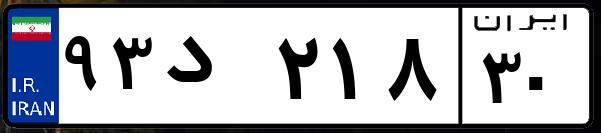0: (525, 38, 570, 115)
1: (330, 28, 385, 110)
2: (270, 28, 330, 110)
3: (475, 38, 525, 113), (110, 28, 158, 98)
8: (385, 28, 445, 110)
9: (57, 26, 110, 100)
د: (158, 20, 270, 120)
